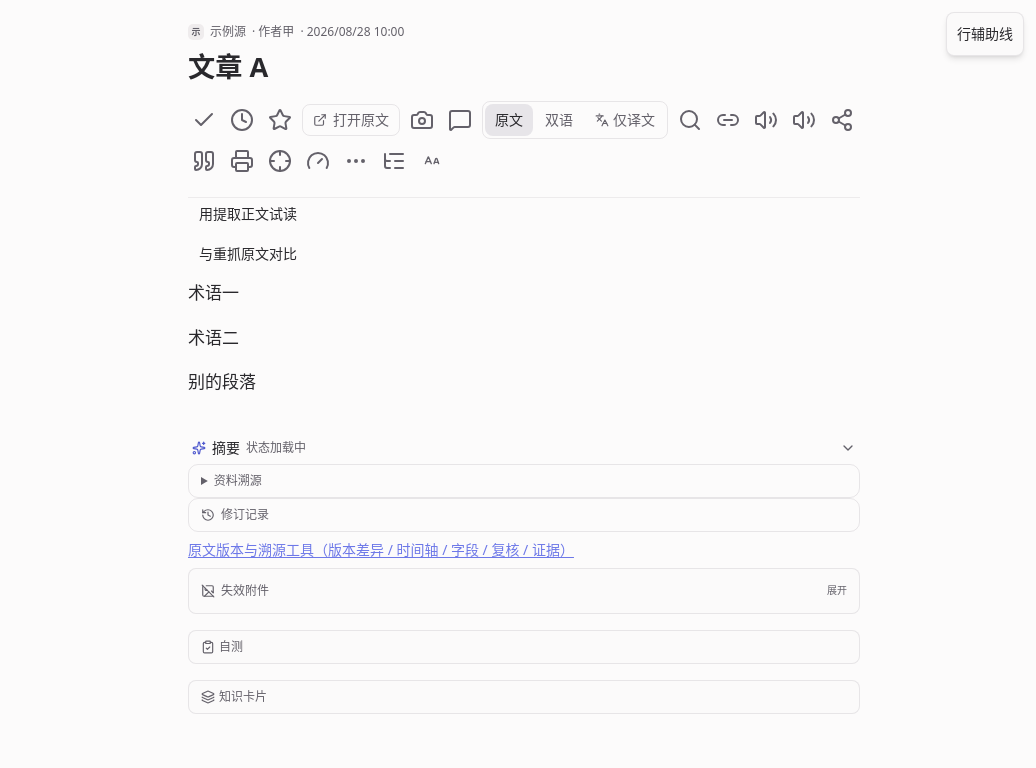
F13 — 文内查找 › 工具栏入口打开查找条；命中计数 n/m；无结果诚实显示；关闭无残留
Expected: the heading "文章 A" is shown, left=188, top=48, right=268, bottom=85
入口：ReaderHeader 工具栏（jsdom 无 CSS.highlights → 降级路径）
Click the button named "文内查找" at x=690, y=120, box left=674, top=104, right=706, bottom=136
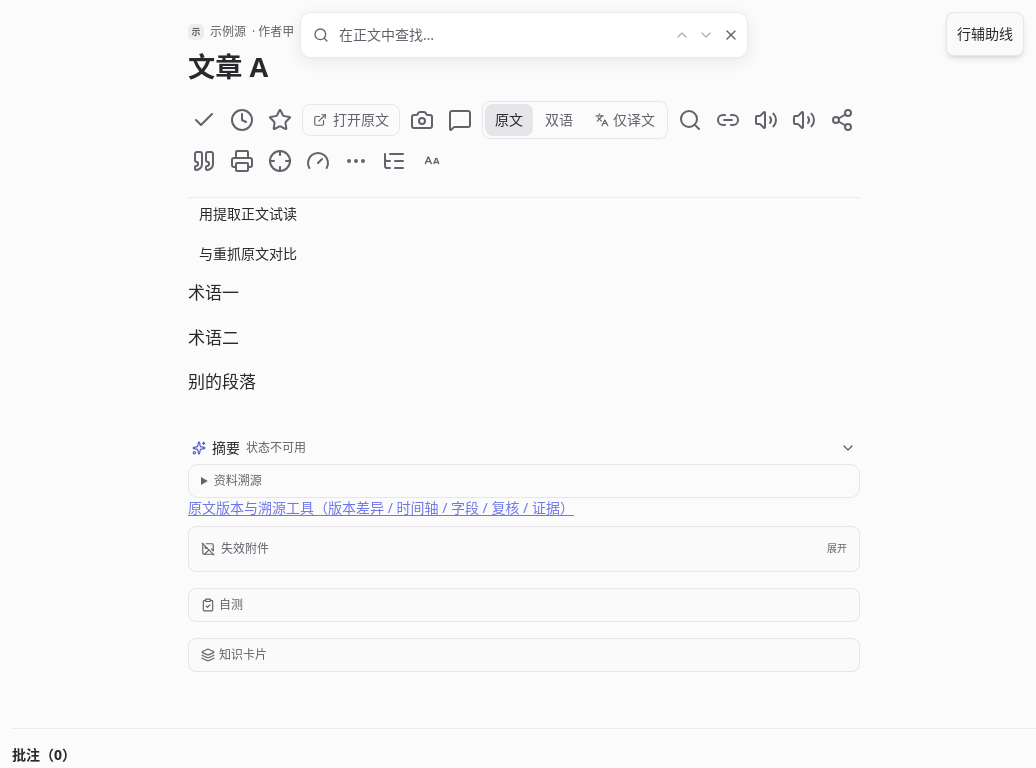
查找条为懒加载 chunk：等待挂载（修复慢机竞态，与 bcfe0a6 同类）
Type "术语" into the field named "查找正文" at x=497, y=35, box left=339, top=19, right=656, bottom=51
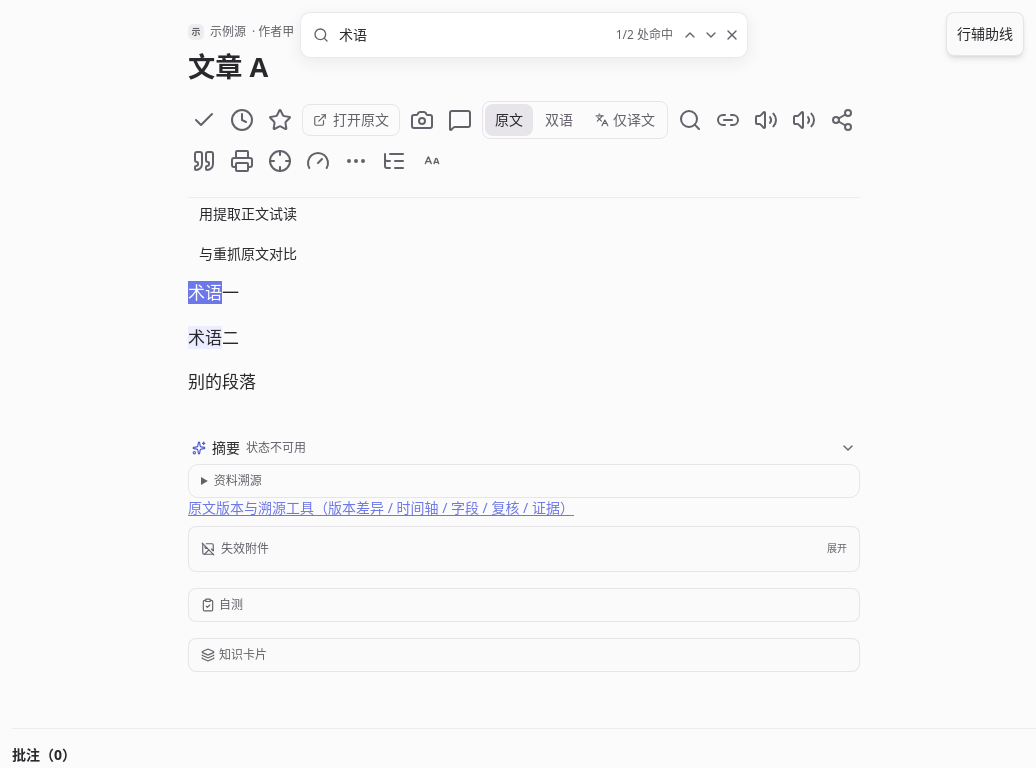
Expected: the text "1/2 处命中" is shown, left=612, top=27, right=677, bottom=43
Replace the text in the field named "查找正文" with "不存在的词" at x=473, y=35, box left=339, top=19, right=608, bottom=51
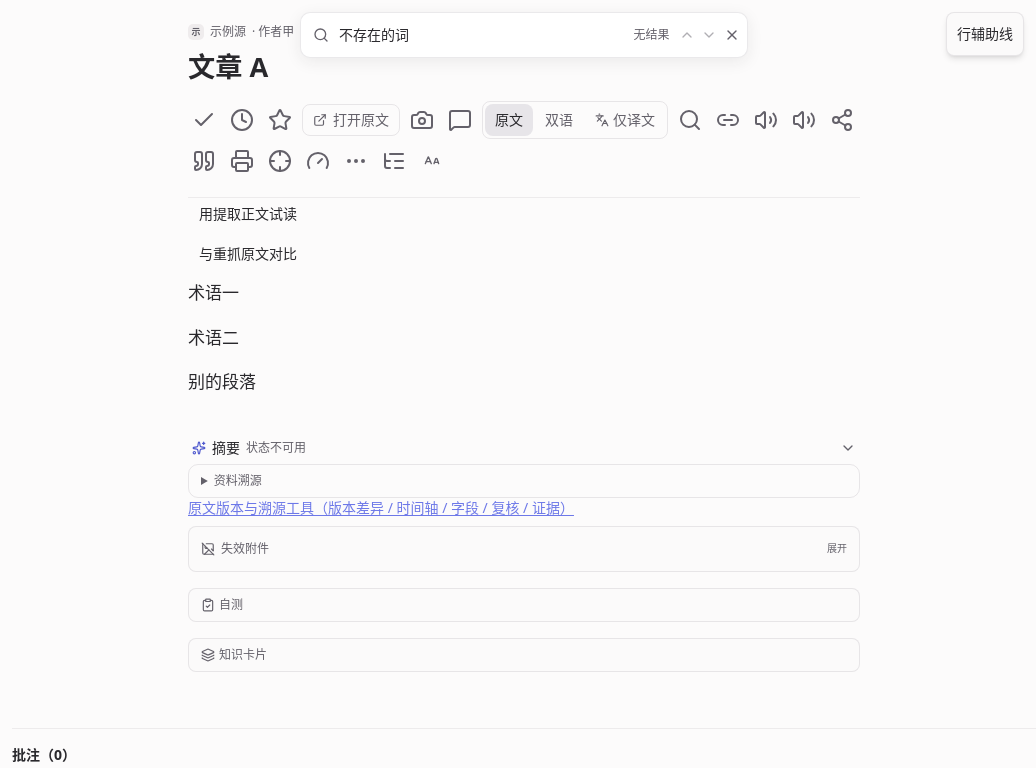
Expected: the text "无结果" is shown, left=634, top=26, right=670, bottom=43
Click the button named "关闭查找" at x=732, y=35, box left=722, top=21, right=741, bottom=49
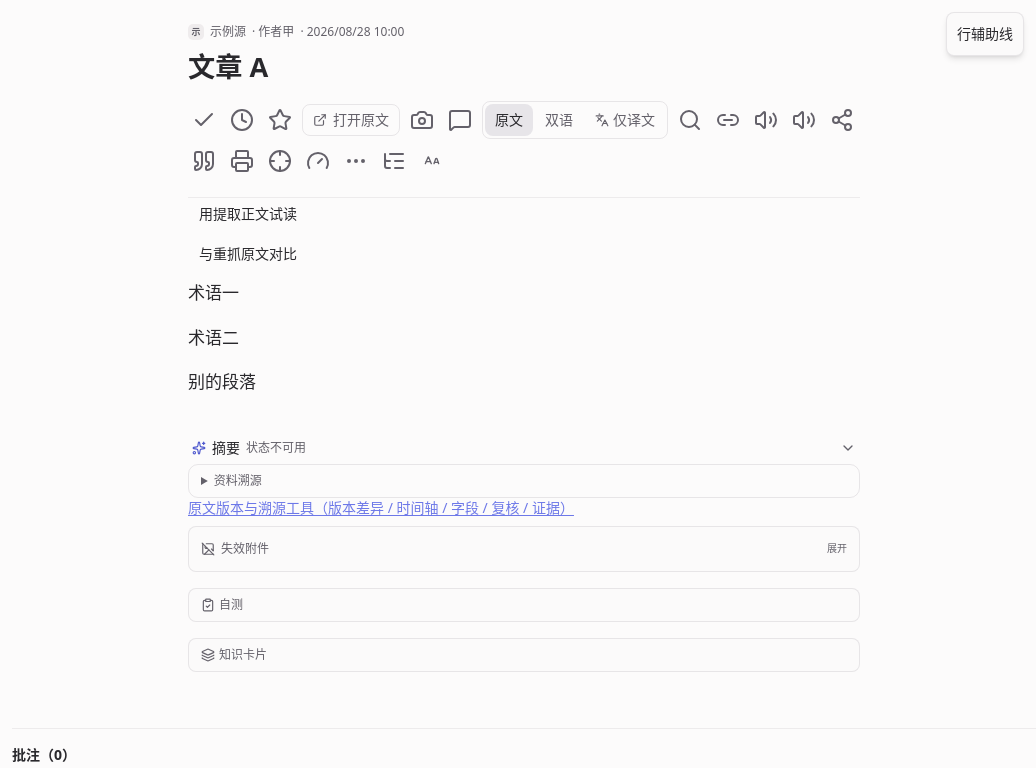
Expected: the text "无结果" is gone
